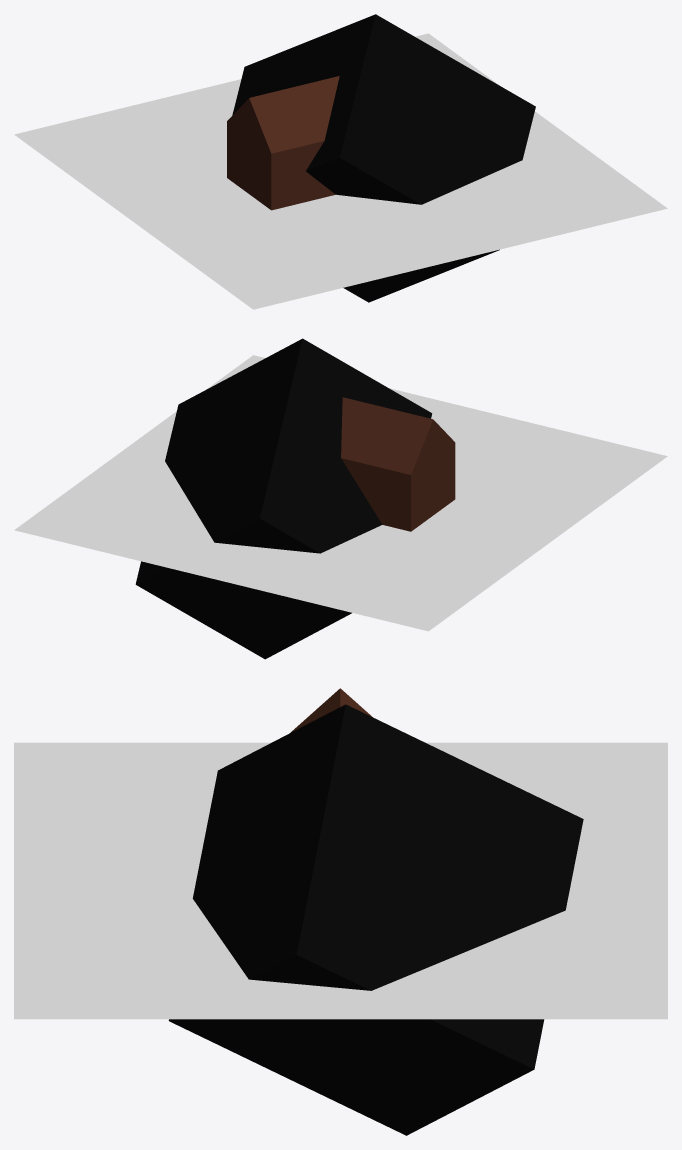
Rendered from Coal_Mine_PlaceHolder.fbx.
3 views of the same model, one above another, from view 1: azimuth 30°, elevation 25°; view 2: azimuth 150°, elevation 25°; view 3: azimuth 270°, elevation 25° (orthographic). The views are drawn at different scales.
Visible parts, largest first — view 1: Plane.006, Cube.023, Cube.022; view 2: Plane.006, Cube.023, Cube.022; view 3: Plane.006, Cube.023, Cube.022.
Boxes of the visible parts, x1,y1,x2,y2 form: Plane.006: (14,33,667,309); Cube.023: (232,14,535,302); Cube.022: (227,76,339,210); Plane.006: (14,355,667,631); Cube.023: (135,338,432,659); Cube.022: (341,397,455,531); Plane.006: (14,742,667,1019); Cube.023: (168,704,583,1135); Cube.022: (290,688,372,732).
Bounding box in the file's own units: 82.96 × 58.97 × 82.96.
